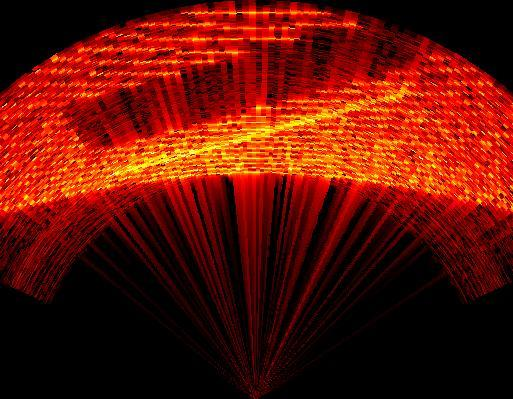pipe: (59, 26, 433, 183)
